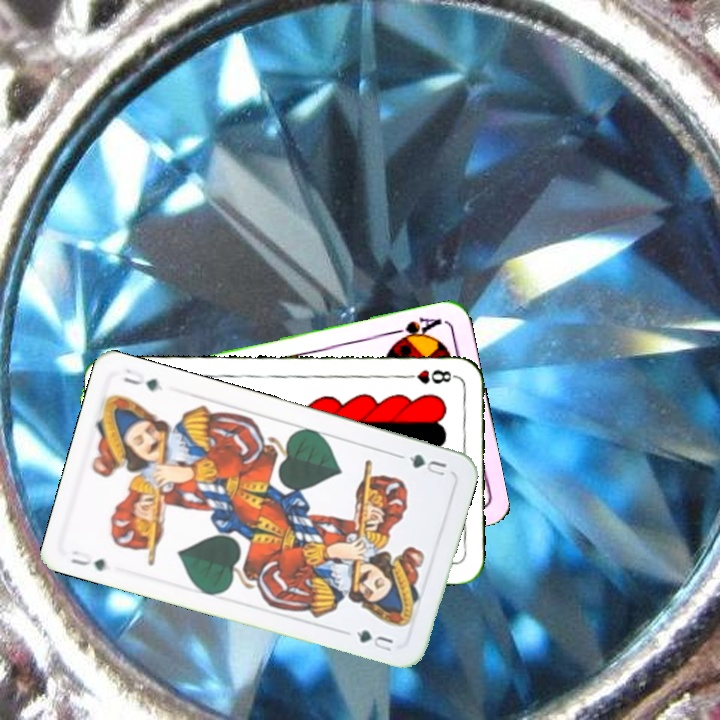GU: (395, 450, 449, 479), (66, 546, 109, 574)
H8: (399, 365, 458, 386)
SA: (387, 313, 445, 346)
